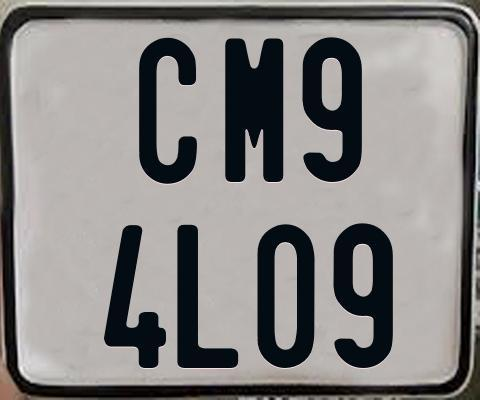0: (255, 224, 314, 368)
4: (102, 225, 168, 370)
9: (331, 223, 394, 369), (299, 37, 359, 186)
C: (137, 35, 199, 185)
L: (175, 225, 241, 369)
M: (224, 35, 284, 182)
